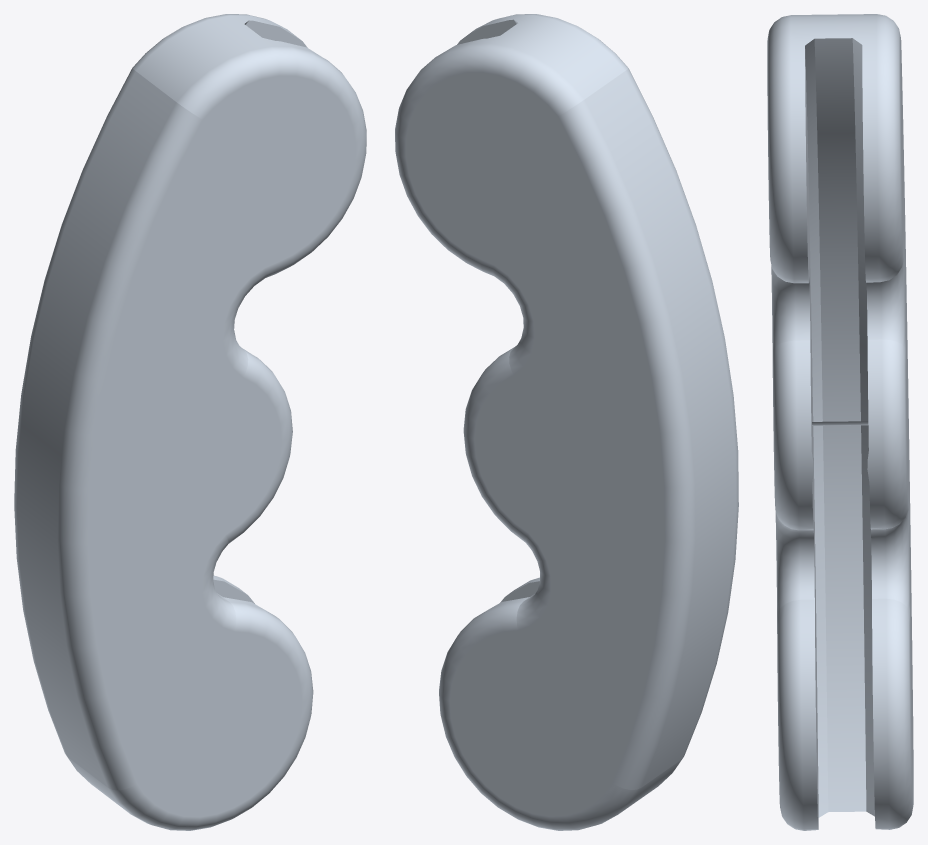
File: RB-037_viewer.glb
The picture shows the model from 3 angles, left to right: view 1: azimuth 30°, elevation 25°; view 2: azimuth 150°, elevation 25°; view 3: azimuth 270°, elevation 25°; orthographic projection. The views are drawn at different scales.
Parts seen in each view (by area): view 1: basebody_imported1; view 2: basebody_imported1; view 3: basebody_imported1.
Part boxes in pixels (x1,y1,x2,y2): basebody_imported1: (14,14,366,830); basebody_imported1: (395,14,738,830); basebody_imported1: (767,14,913,830).
Size of the model in its own units: 0.00532 by 0.0129 by 0.0021.
